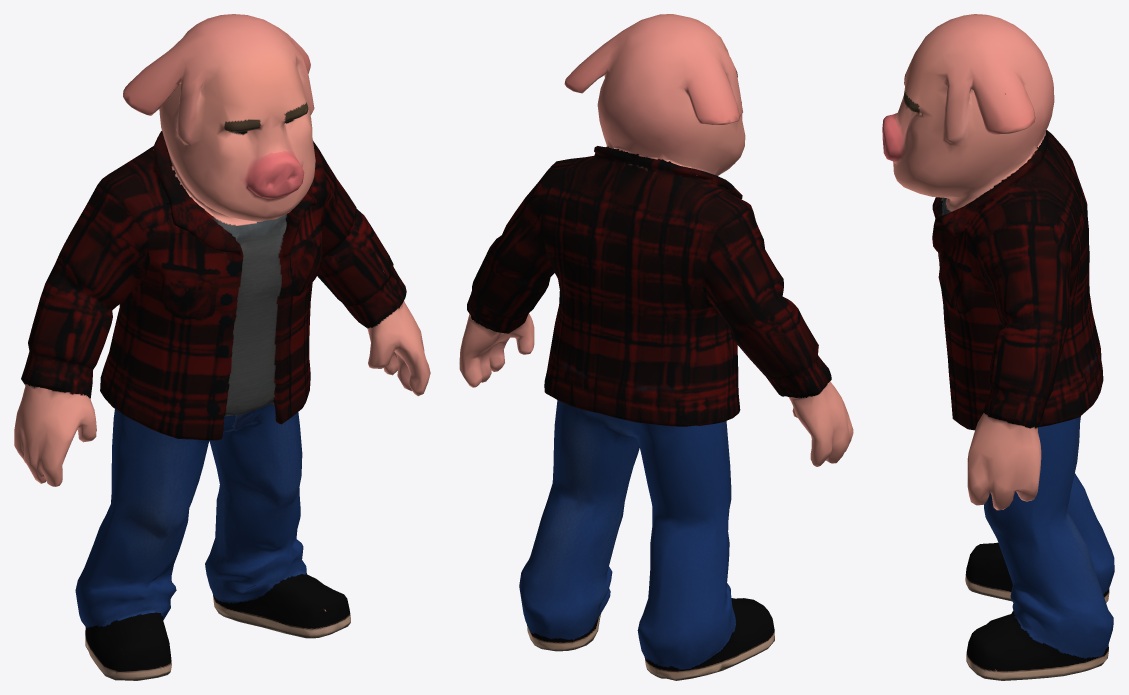
File: john-pork-generated.glb
3 views of the same model, side by side, from view 1: azimuth 30°, elevation 25°; view 2: azimuth 150°, elevation 25°; view 3: azimuth 270°, elevation 25° (orthographic). The views are drawn at different scales.
Size of the model in its own units: 0.6287 by 0.963 by 0.3334.
Materials: 1 (1 with a texture image).
